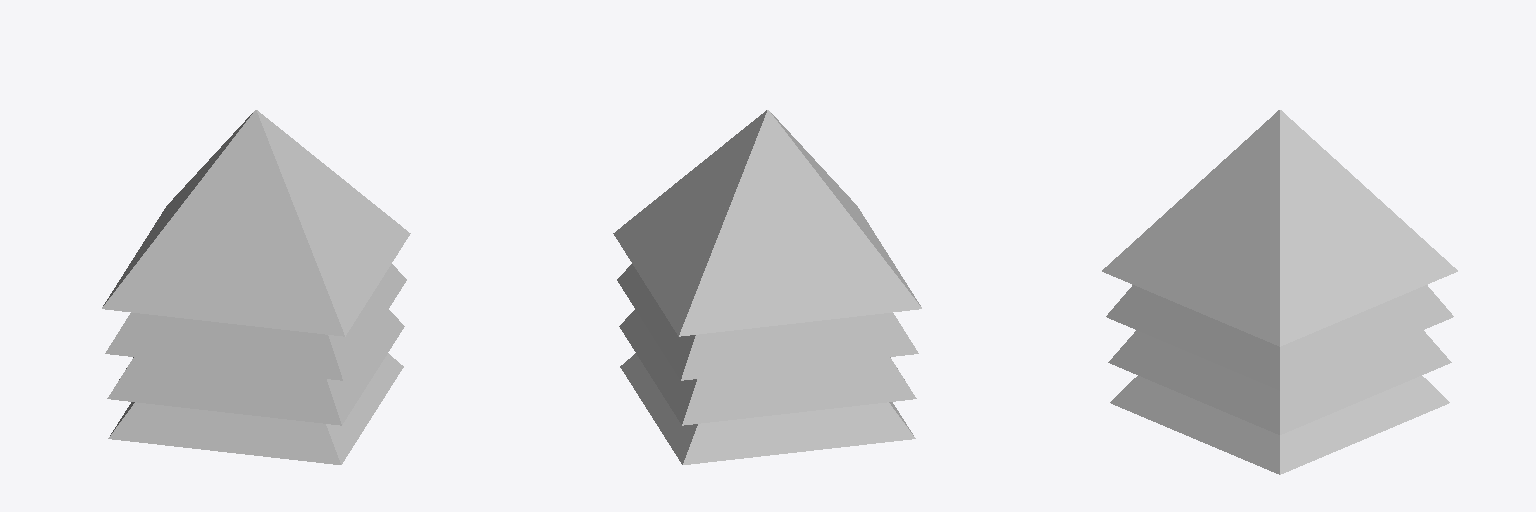
File: 5_head.obj
3 views of the same model, side by side, from view 1: azimuth 30°, elevation 25°; view 2: azimuth 150°, elevation 25°; view 3: azimuth 270°, elevation 25° (orthographic).
Visible parts, largest first — view 1: Cone; view 2: Cone; view 3: Cone.
Boxes of the visible parts, x1,y1,x2,y2 form: Cone: [102, 110, 410, 464]; Cone: [613, 110, 921, 464]; Cone: [1102, 110, 1457, 474].
Size of the model in its own units: 0.2925 by 0.2652 by 0.2925.